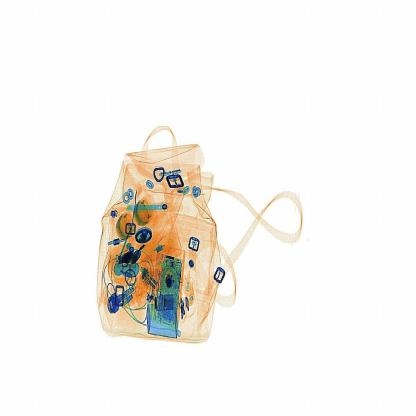pliers: (123, 185, 196, 216)
